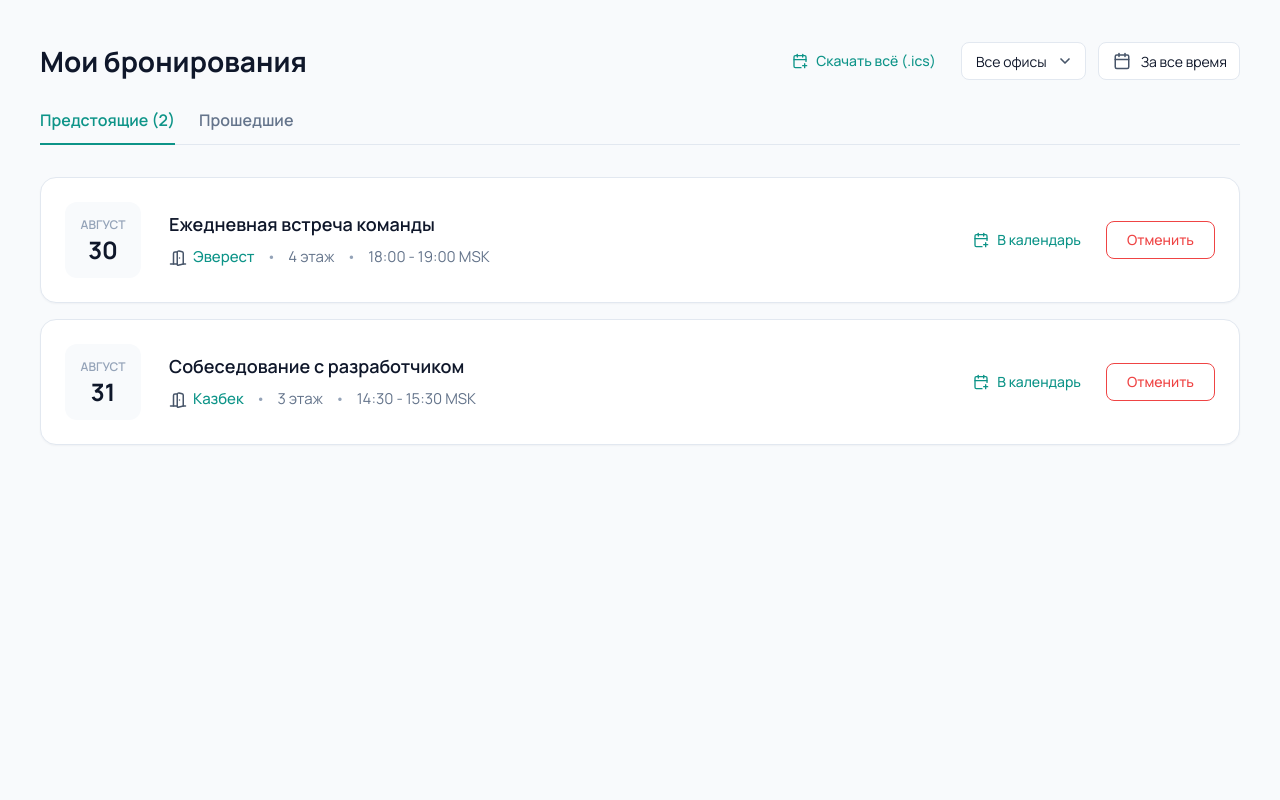
BookingsPage › отменяет бронь через подтверждение
Click the button "Отменить" in the row of "18:00 - 19:00 MSK" at coordinates (1160, 240), box [1106,221,1215,259]
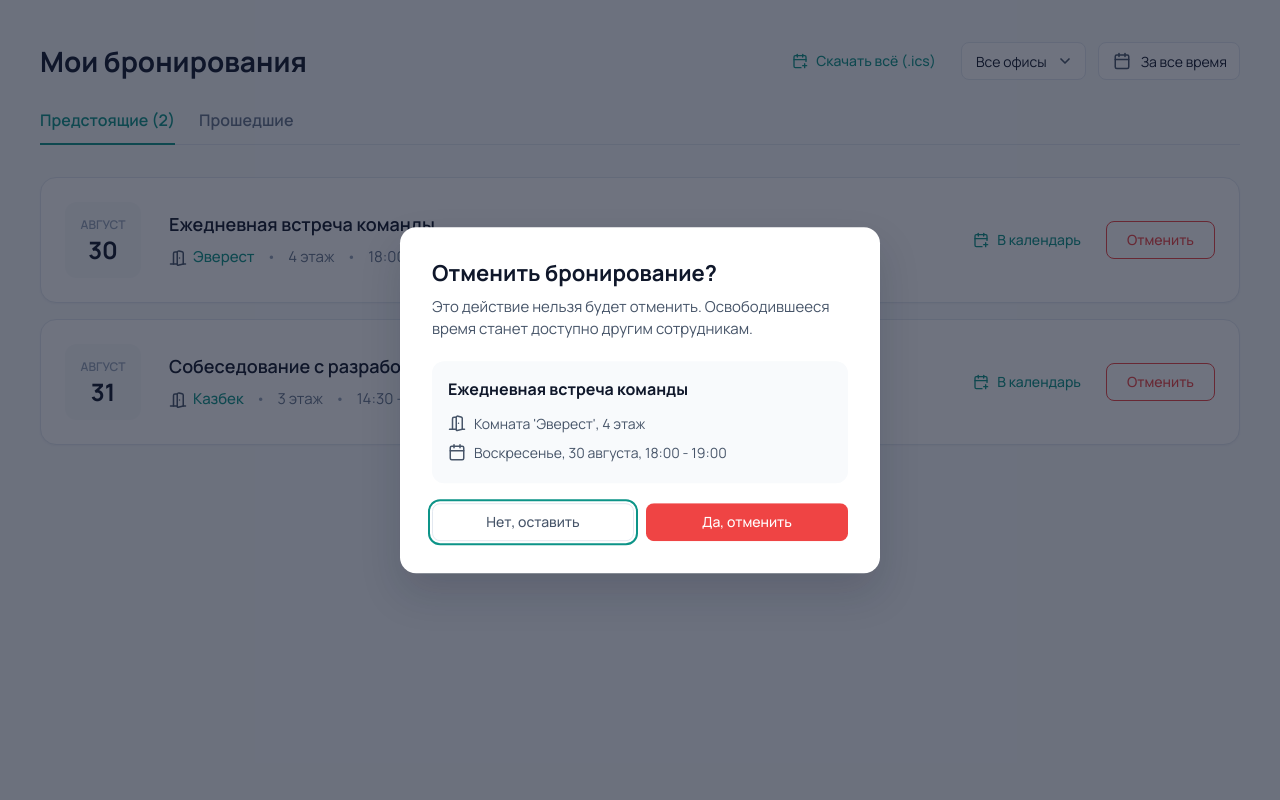
Click the button "Да, отменить" at coordinates (747, 522), box [646,503,848,541]
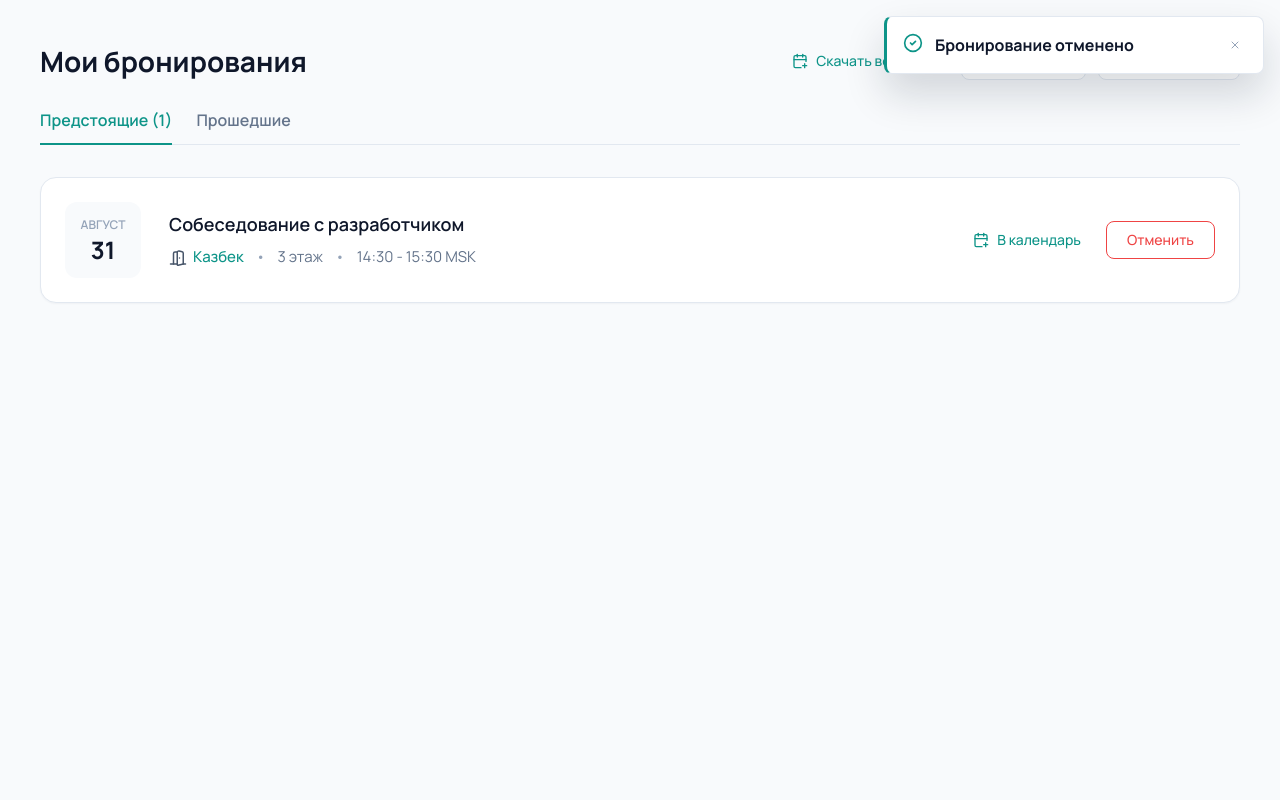
Check: the text "Бронирование отменено" is shown, box [935,34,1134,56]
Check: the heading "Ежедневная встреча команды" is gone
